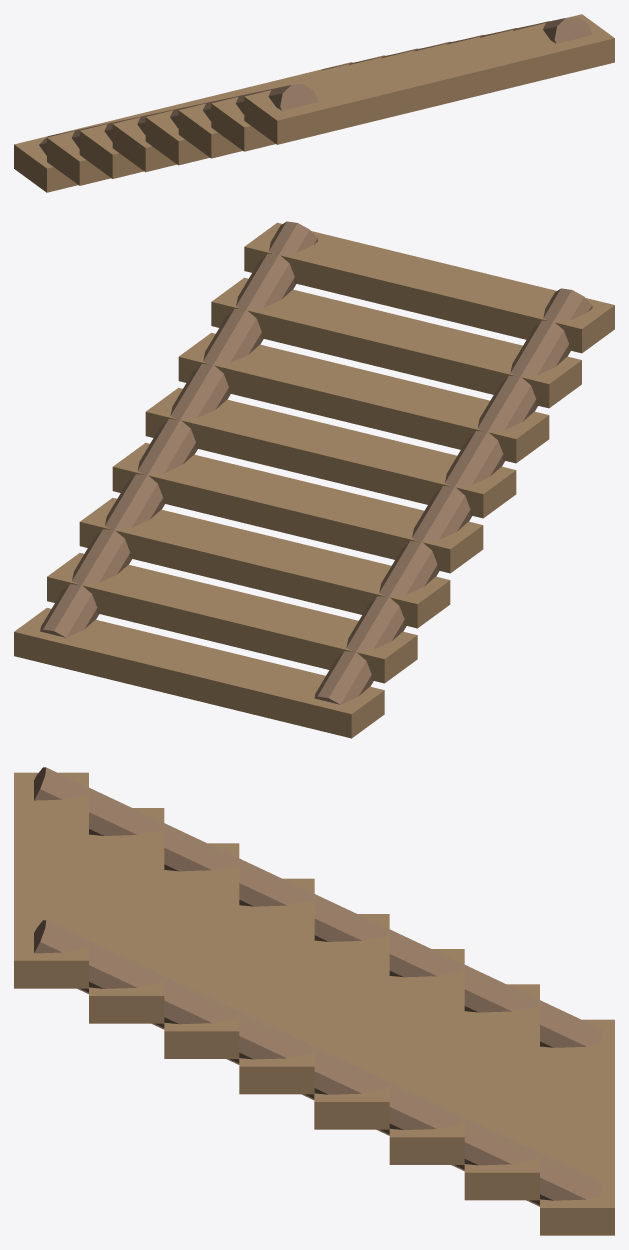
The model's file is wooden_ramp.glb.
The picture shows the model from 3 angles, top to bottom: view 1: azimuth 30°, elevation 25°; view 2: azimuth 150°, elevation 25°; view 3: azimuth 270°, elevation 25°; orthographic projection. The views are drawn at different scales.
Visible parts, largest first — view 1: part_7, part_0, part_2, part_3, part_1, part_4, part_5, part_6, part_8, part_9; view 2: part_0, part_7, part_2, part_1, part_3, part_4, part_5, part_6, part_9, part_8; view 3: part_9, part_8, part_7, part_0, part_1, part_4, part_3, part_2, part_6, part_5.
Boxes of the visible parts, x1,y1,x2,y2 form: part_7: (244,14,614,144); part_0: (14,62,352,192); part_2: (79,48,417,178); part_3: (112,41,450,172); part_1: (47,55,385,185); part_4: (145,34,483,165); part_5: (178,28,516,158); part_6: (211,21,548,151); part_8: (39,84,318,155); part_9: (321,17,592,70); part_0: (14,608,384,738); part_7: (244,222,614,353); part_2: (79,498,450,628); part_1: (47,553,417,683); part_3: (112,442,483,573); part_4: (145,387,516,518); part_5: (178,332,549,463); part_6: (211,277,581,408); part_9: (40,221,317,637); part_8: (314,288,592,704); part_9: (34,920,602,1206); part_8: (34,767,602,1047); part_7: (14,772,88,988); part_0: (540,1019,614,1235); part_1: (464,984,539,1200); part_4: (239,878,314,1094); part_3: (314,914,389,1129); part_2: (389,949,464,1164); part_6: (89,808,164,1023); part_5: (164,843,239,1058).
Size of the model in its own units: 1.6 by 1.2 by 2.16.
